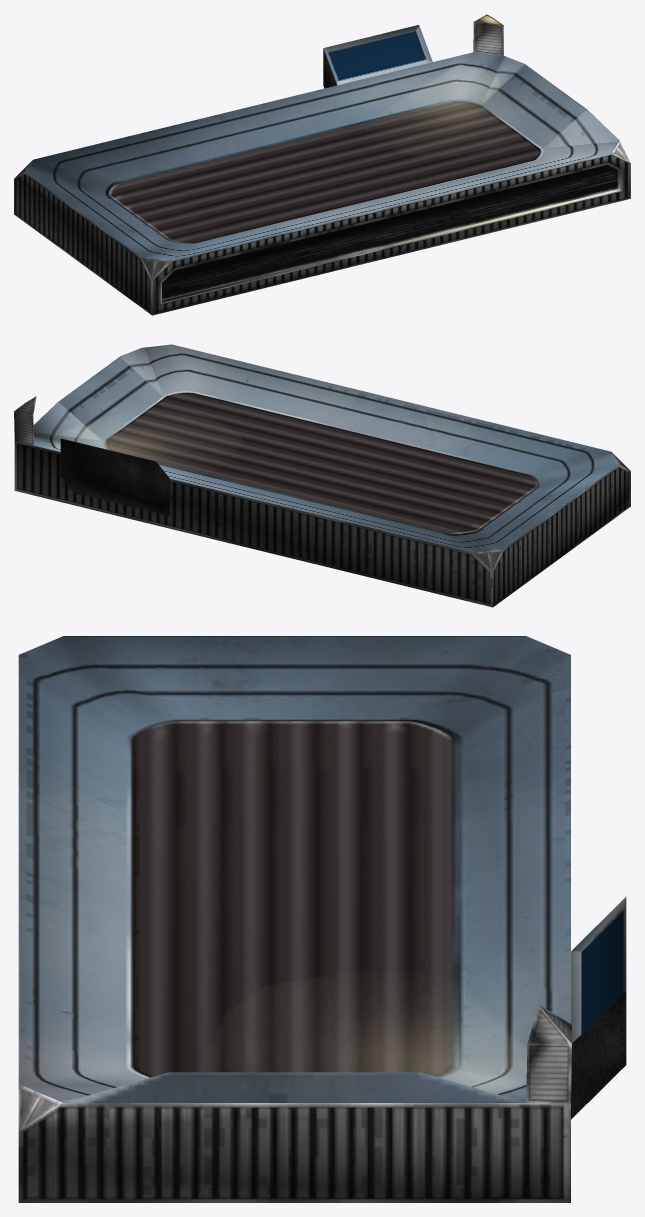
Rendered from bed01.glb.
3 views of the same model, one above another, from view 1: azimuth 30°, elevation 25°; view 2: azimuth 150°, elevation 25°; view 3: azimuth 270°, elevation 25° (orthographic). The views are drawn at different scales.
Parts seen in each view (by area): view 1: Bed; view 2: Bed; view 3: Bed.
Part boxes in pixels (bbox=[...]): Bed: bbox=[14, 14, 630, 315]; Bed: bbox=[14, 344, 630, 607]; Bed: bbox=[18, 636, 626, 1202].
Size of the model in its own units: 143 by 26.37 by 78.58.
Materials: 1 (1 with a texture image).
